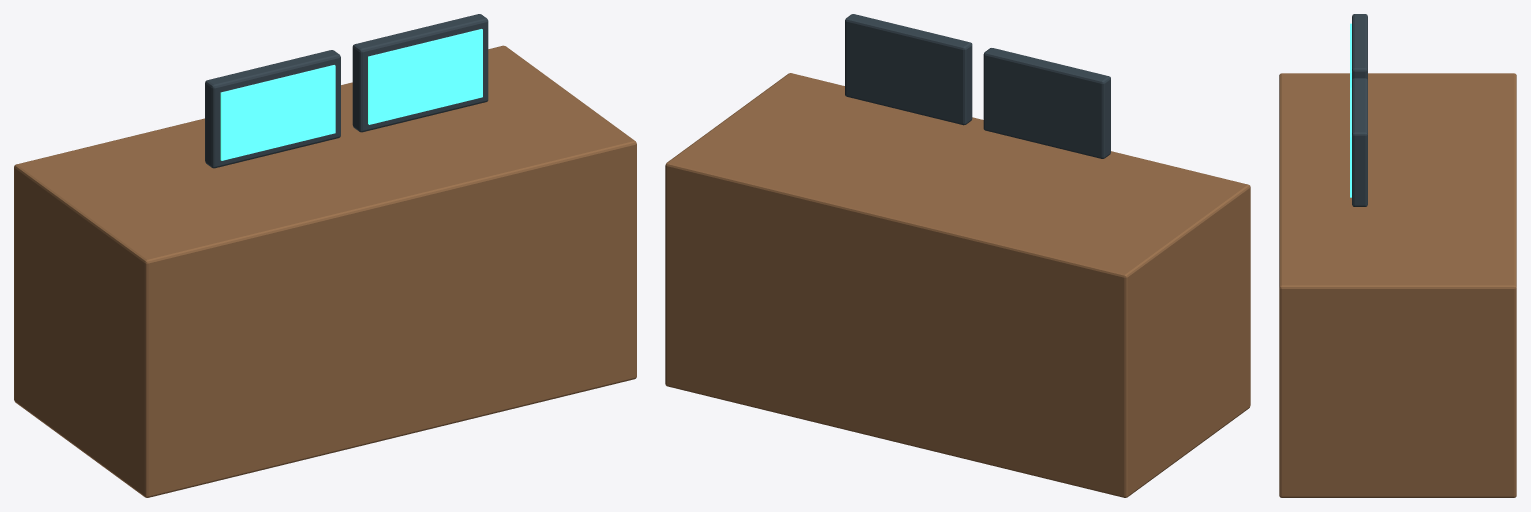
The model's file is CC_S16_P2_Expansion_Ecommerce_OrderDesk_LOD0.fbx.
3 views of the same model, side by side, from view 1: azimuth 30°, elevation 25°; view 2: azimuth 150°, elevation 25°; view 3: azimuth 270°, elevation 25° (orthographic). The views are drawn at different scales.
Parts seen in each view (by area): view 1: CC_S16_P2_Expansion_Ecommerce_OrderDesk_LOD0_Desk, CC_S16_P2_Expansion_Ecommerce_OrderDesk_LOD0; view 2: CC_S16_P2_Expansion_Ecommerce_OrderDesk_LOD0_Desk, CC_S16_P2_Expansion_Ecommerce_OrderDesk_LOD0; view 3: CC_S16_P2_Expansion_Ecommerce_OrderDesk_LOD0_Desk, CC_S16_P2_Expansion_Ecommerce_OrderDesk_LOD0.
Boxes of the visible parts, <box> form: CC_S16_P2_Expansion_Ecommerce_OrderDesk_LOD0_Desk: <box>14,45,636,497</box>; CC_S16_P2_Expansion_Ecommerce_OrderDesk_LOD0: <box>205,14,488,168</box>; CC_S16_P2_Expansion_Ecommerce_OrderDesk_LOD0_Desk: <box>665,73,1250,497</box>; CC_S16_P2_Expansion_Ecommerce_OrderDesk_LOD0: <box>845,14,1110,158</box>; CC_S16_P2_Expansion_Ecommerce_OrderDesk_LOD0_Desk: <box>1279,73,1516,497</box>; CC_S16_P2_Expansion_Ecommerce_OrderDesk_LOD0: <box>1350,14,1367,206</box>.
Size of what is drawn, in the model's own units: 1.6 by 1.11 by 0.75.
